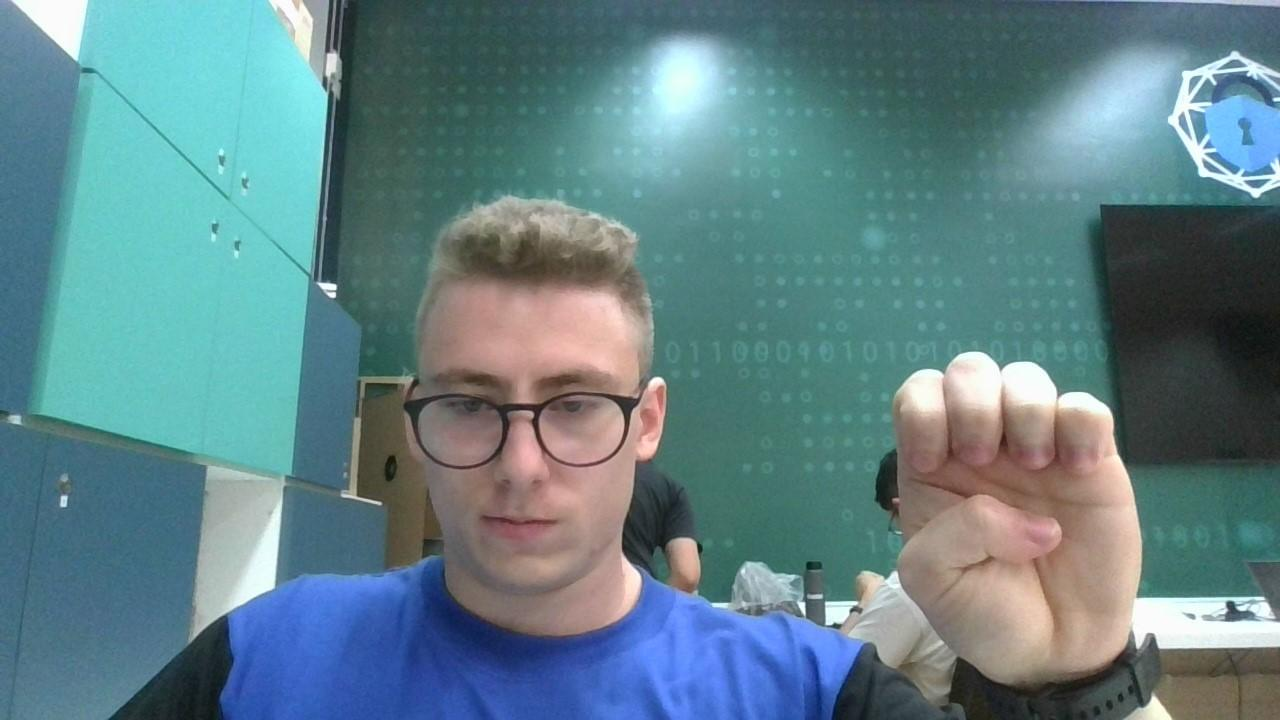E: (886, 348, 1148, 676)
